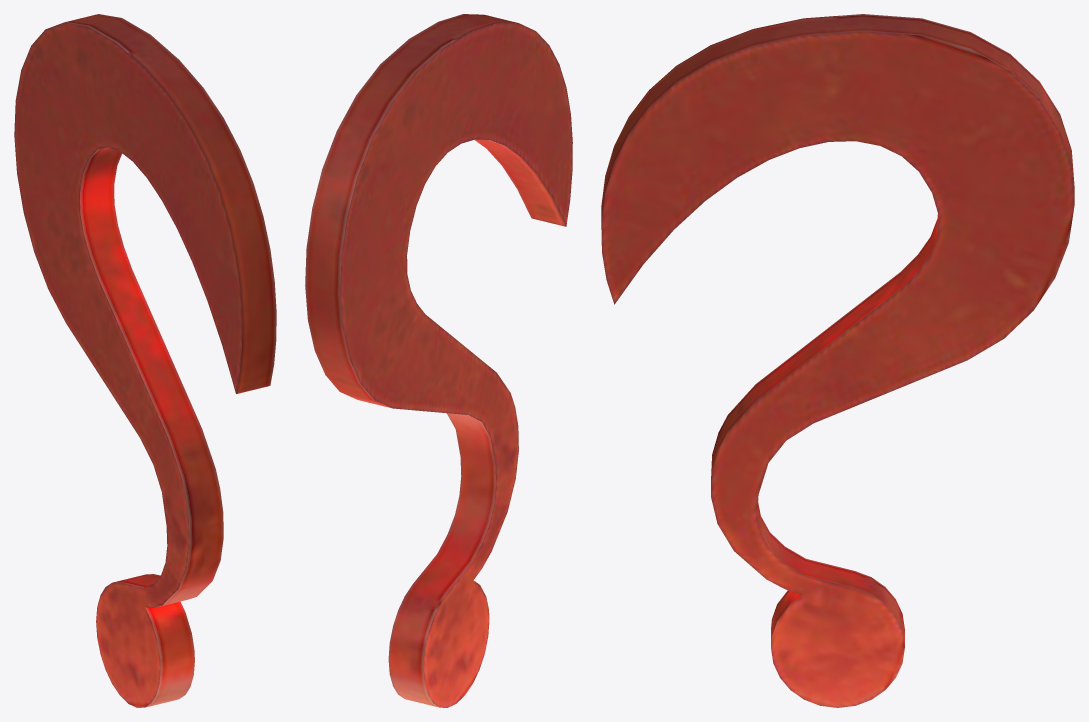
File: Question.glb
3 renders of one model, left to right at view 1: azimuth 30°, elevation 25°; view 2: azimuth 150°, elevation 25°; view 3: azimuth 270°, elevation 25°, orthographic. The views are drawn at different scales.
Parts seen in each view (by area): view 1: Question_Export; view 2: Question_Export; view 3: Question_Export.
Part boxes in pixels (x1=…): Question_Export: x1=14, y1=14, x2=276, y2=707; Question_Export: x1=305, y1=14, x2=572, y2=707; Question_Export: x1=601, y1=14, x2=1074, y2=707.
Size of the model in its own units: 0.0319 by 0.5798 by 0.3675.
1 material, 1 textured.
